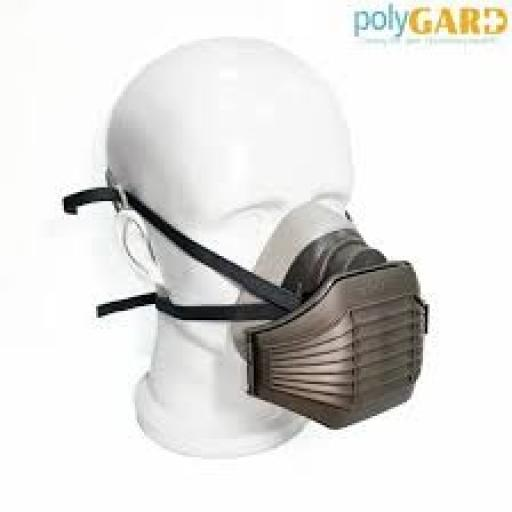mask: (220, 215, 453, 442)
